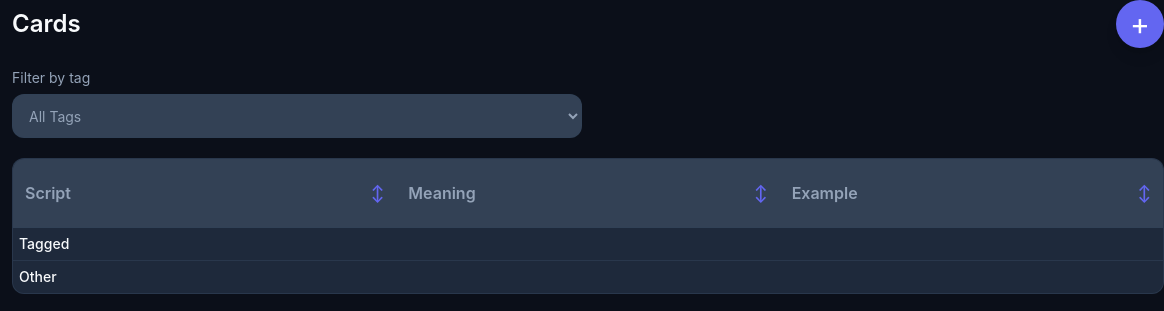
Test: CardListView › filters by one selected tag and resets to all tags
The image size is (1164, 311).
Select "Grammar" in the dropdown named "Filter cards by tag" at (297, 116), box [12, 94, 582, 138]
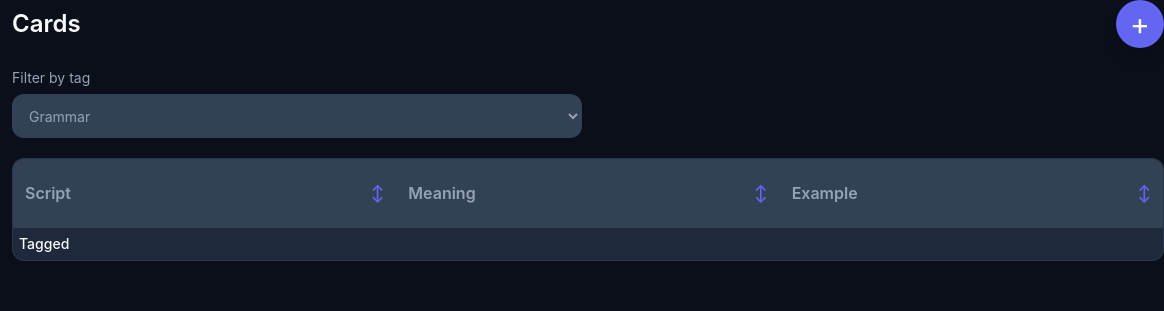
Check: the text "Tagged" is shown, box [19, 235, 69, 252]
Check: the text "Other" is gone
Select "All Tags" in the dropdown named "Filter cards by tag" at (297, 116), box [12, 94, 582, 138]
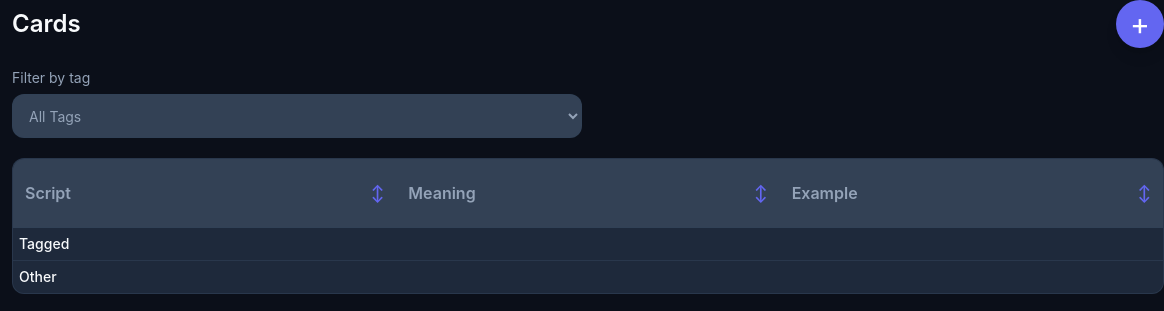
Check: the text "Tagged" is shown, box [19, 235, 69, 252]
Check: the text "Other" is shown, box [19, 268, 57, 285]
